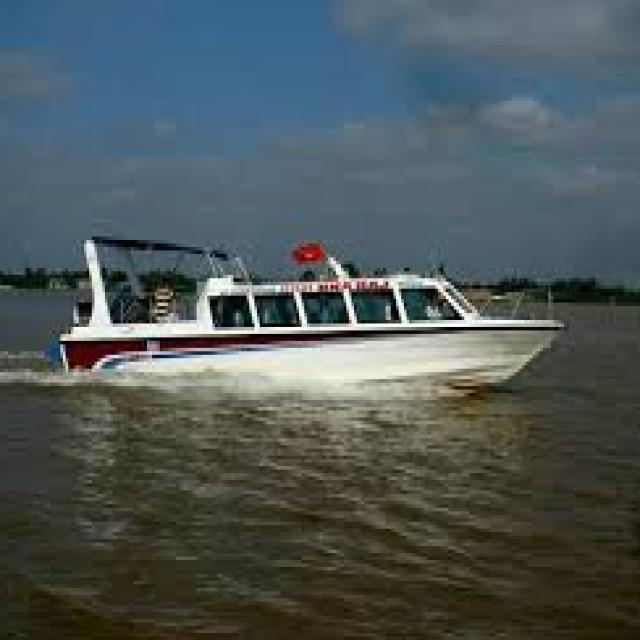houseboat: (44, 238, 572, 387)
